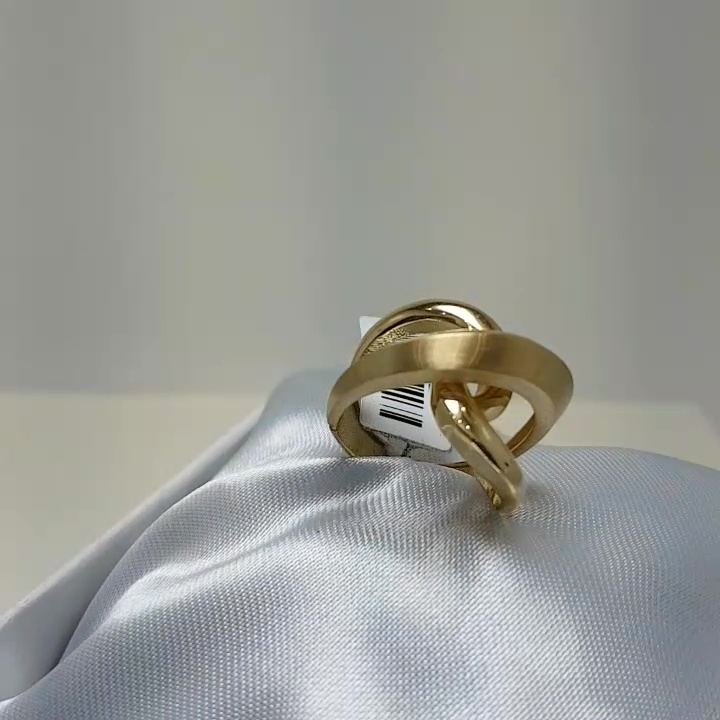Ring 3: (275, 275, 590, 556)
